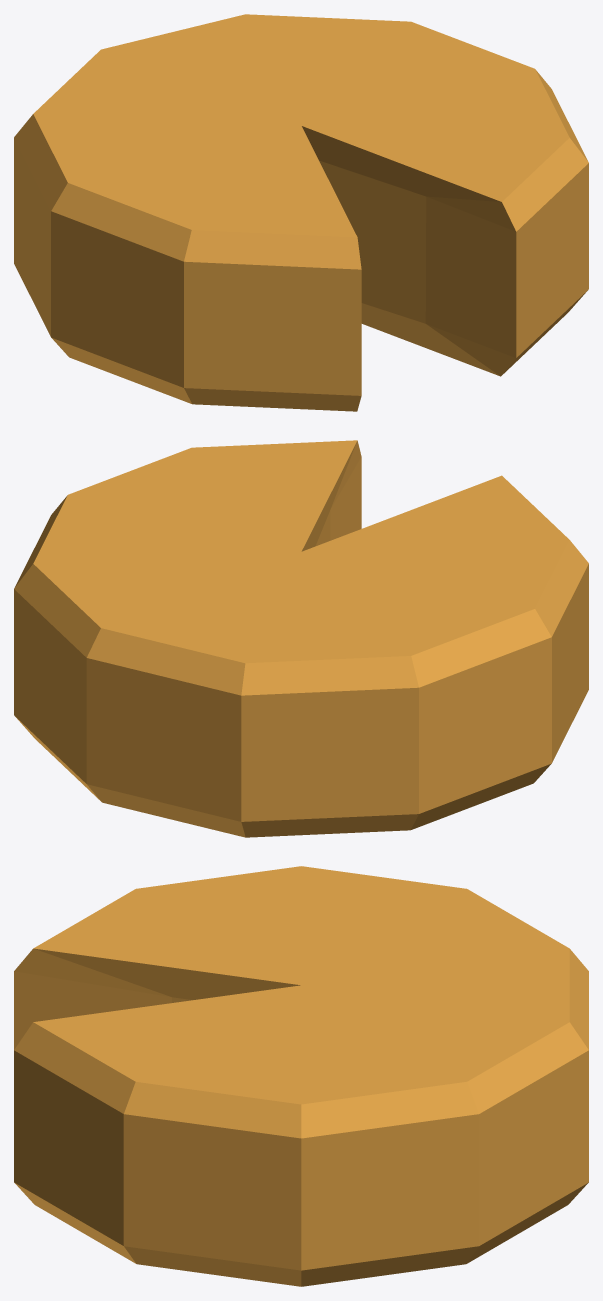
The model's file is cheese-circle.fbx.
3 renders of one model, top to bottom at view 1: azimuth 30°, elevation 25°; view 2: azimuth 150°, elevation 25°; view 3: azimuth 270°, elevation 25°, orthographic. The views are drawn at different scales.
Parts seen in each view (by area): view 1: cheese-circle; view 2: cheese-circle; view 3: cheese-circle.
Part boxes in pixels (x1,y1,x2,y2): cheese-circle: (14,14,588,411); cheese-circle: (14,440,588,837); cheese-circle: (14,866,588,1286).
Size of the model in its own units: 0.4 by 0.1336 by 0.3804.
